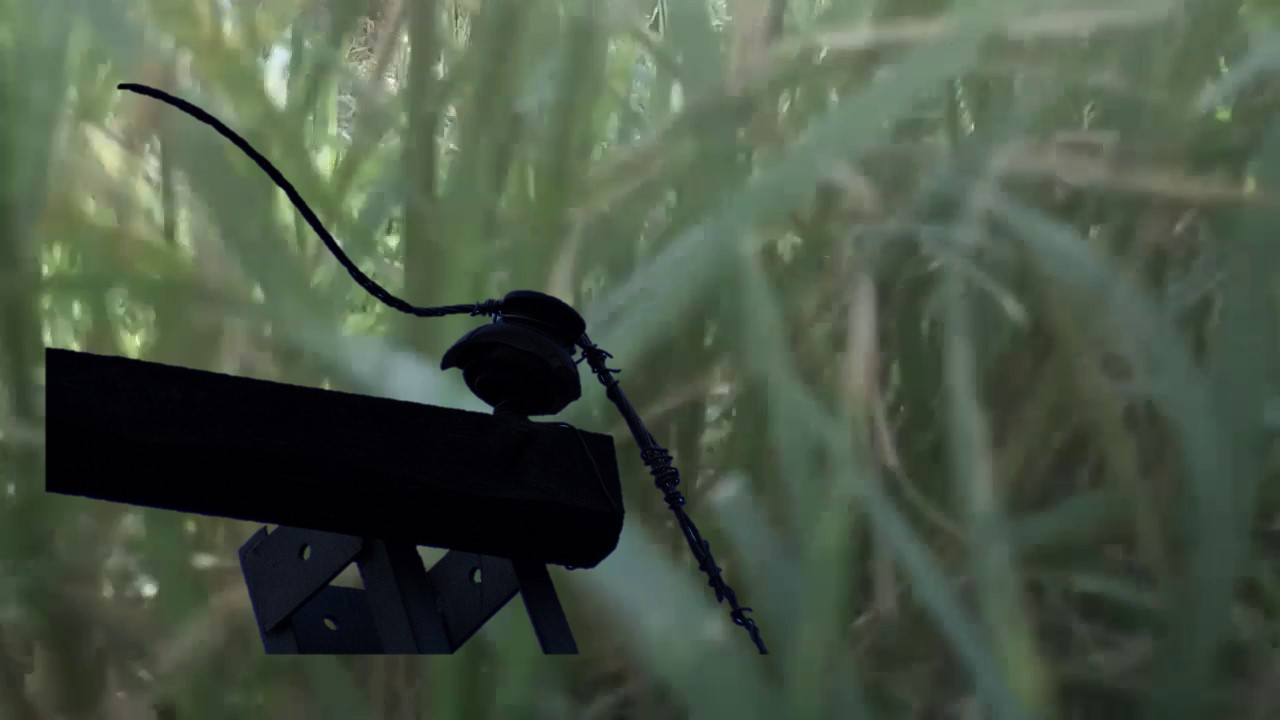defect_pin: (438, 287, 592, 423)
